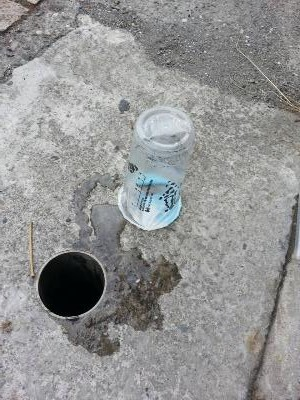bottle: (114, 103, 192, 232)
